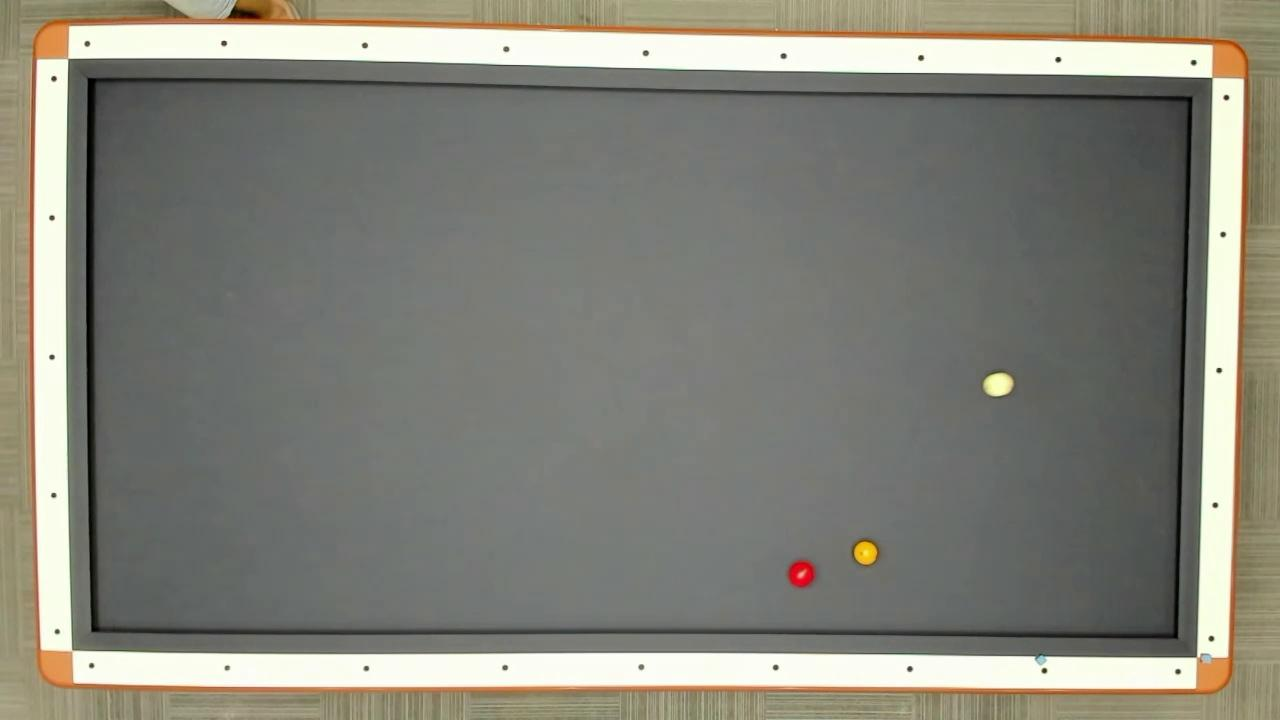Red: (786, 559, 816, 589)
White: (980, 371, 1016, 398)
Yellow: (852, 540, 879, 568)
